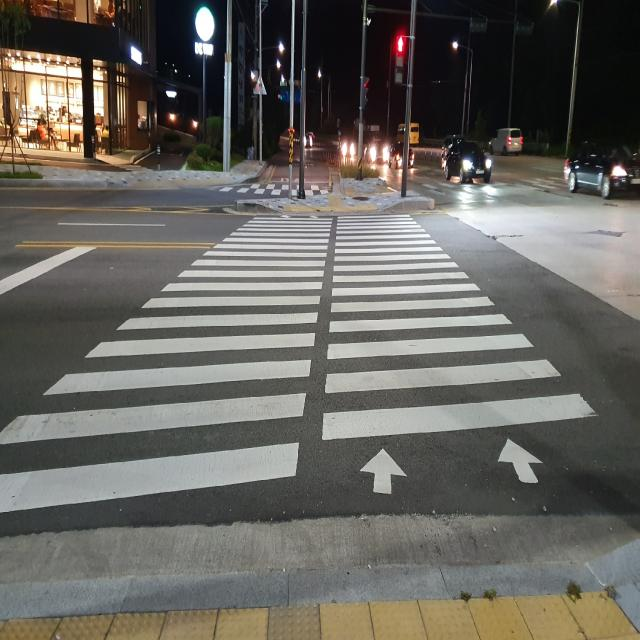빨간불: (396, 36, 404, 80)
횡단보도: (0, 211, 600, 513)
